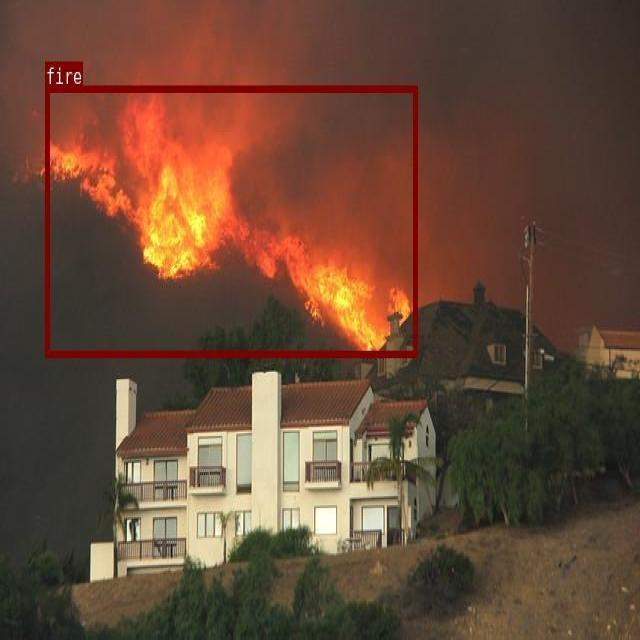fire: (45, 85, 417, 356)
